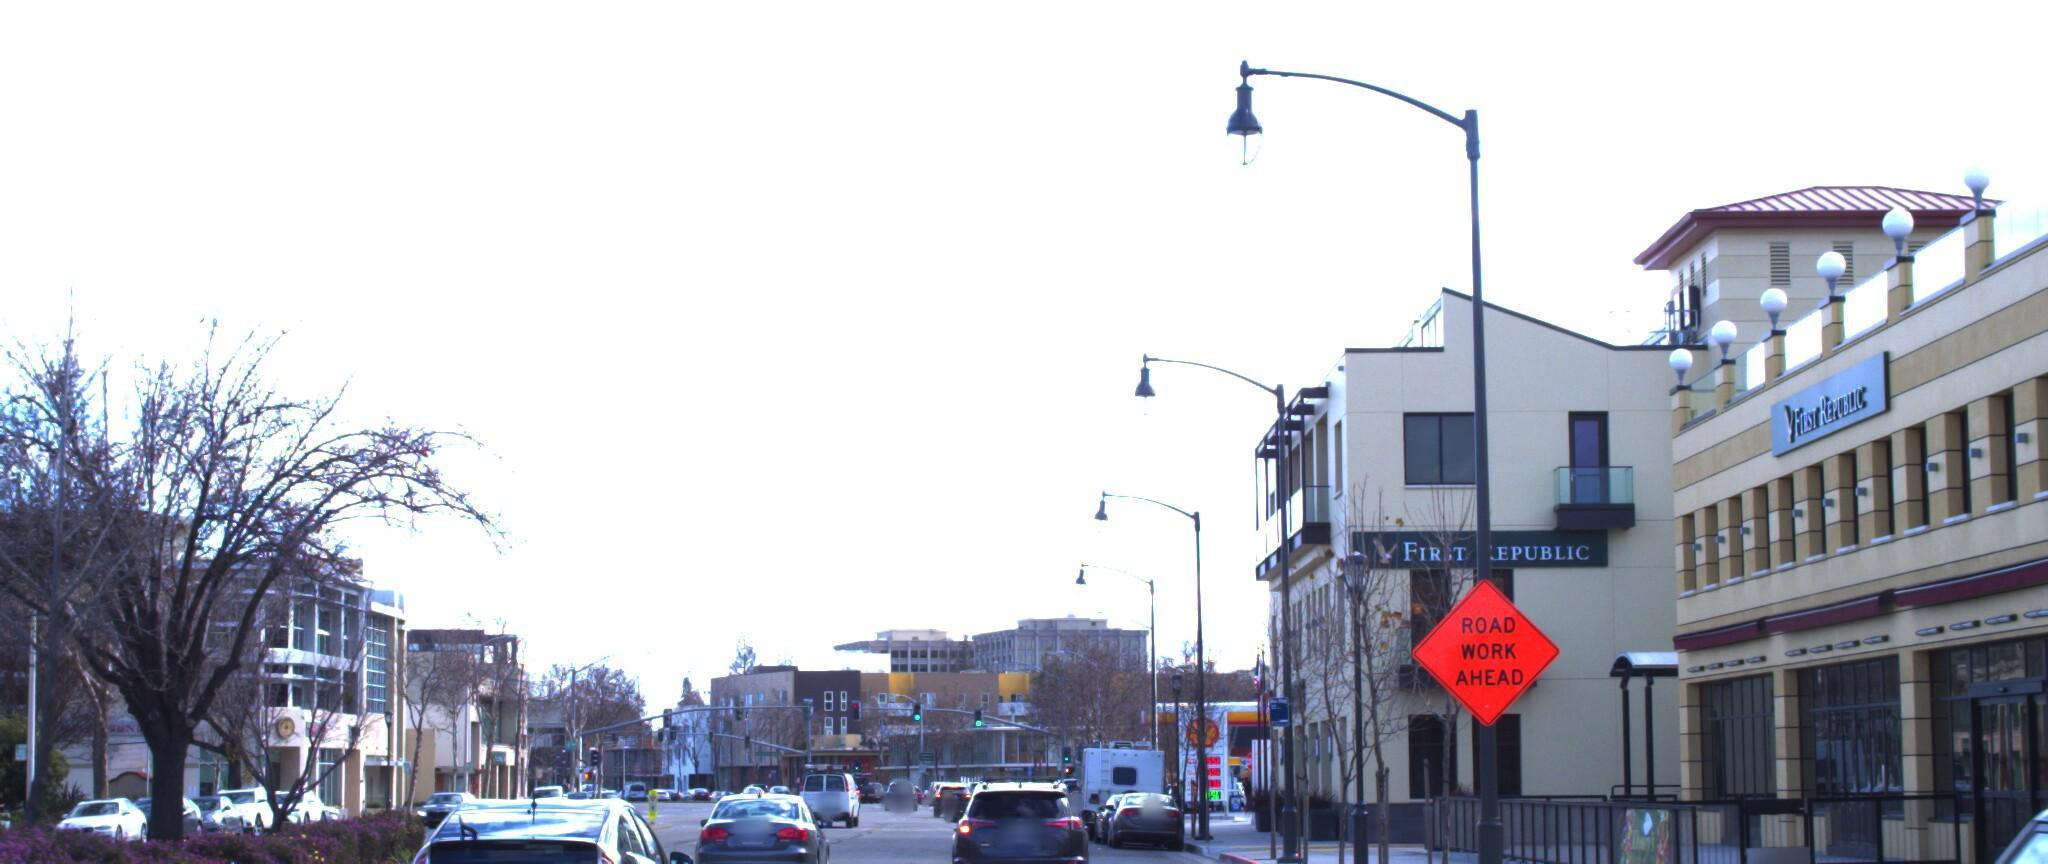car: (1735, 777, 2048, 864), (363, 782, 694, 864), (923, 777, 1062, 864), (683, 783, 820, 864), (1102, 783, 1189, 844)
